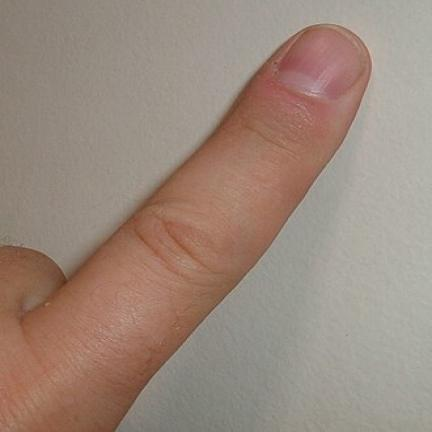finger: (24, 27, 370, 410)
